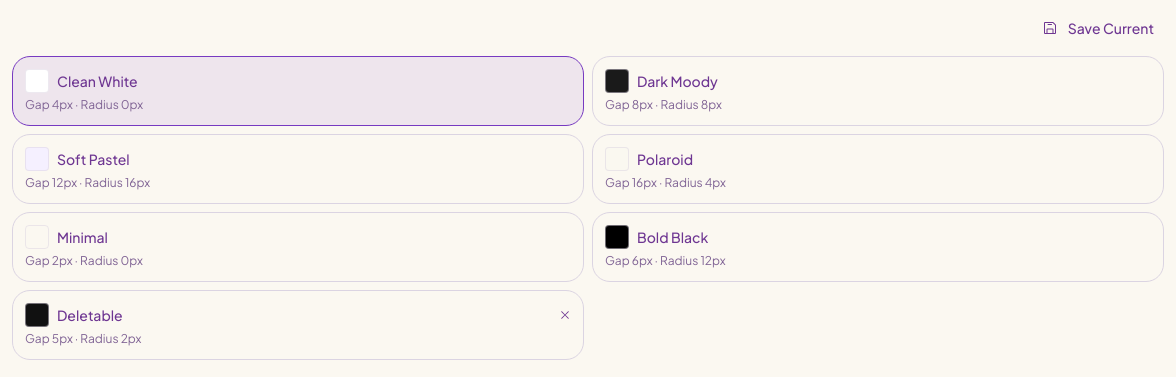
Test: PresetGallery › can delete a custom preset
Expected: the text "Deletable" is shown, x1=57 y1=305 x2=123 y2=325
Click the button named "Delete Deletable" at point(565, 315), box x1=559 y1=309 x2=571 y2=321
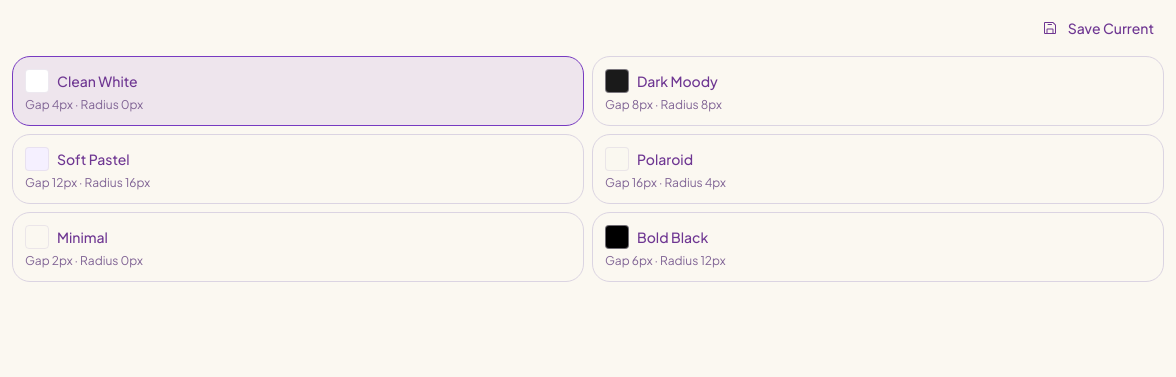
Expected: the button "Deletable" is gone
